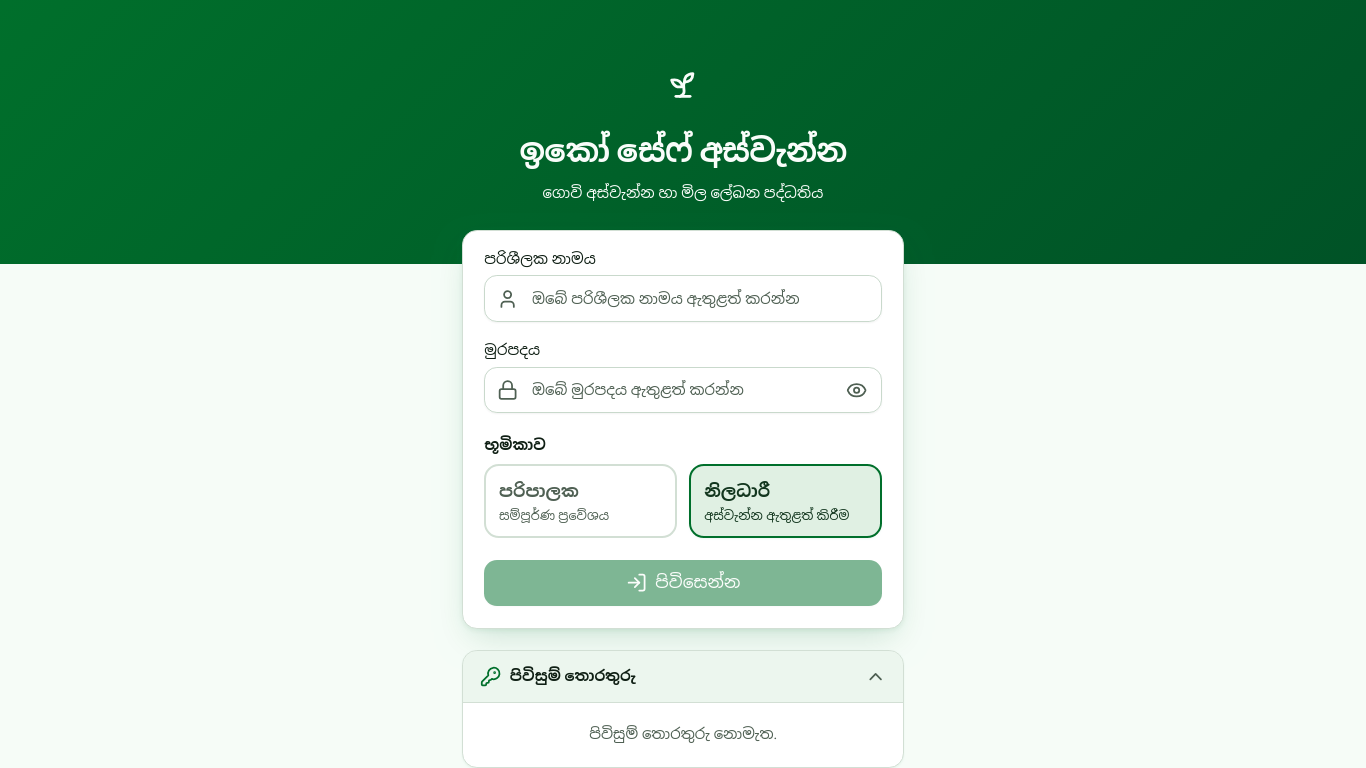
Scenario: LoginPage › toggles password visibility without changing the typed value
Step 1. Type "secret" into the password field labelled "මුරපදය" → (683, 390), box left=484, top=366, right=882, bottom=413
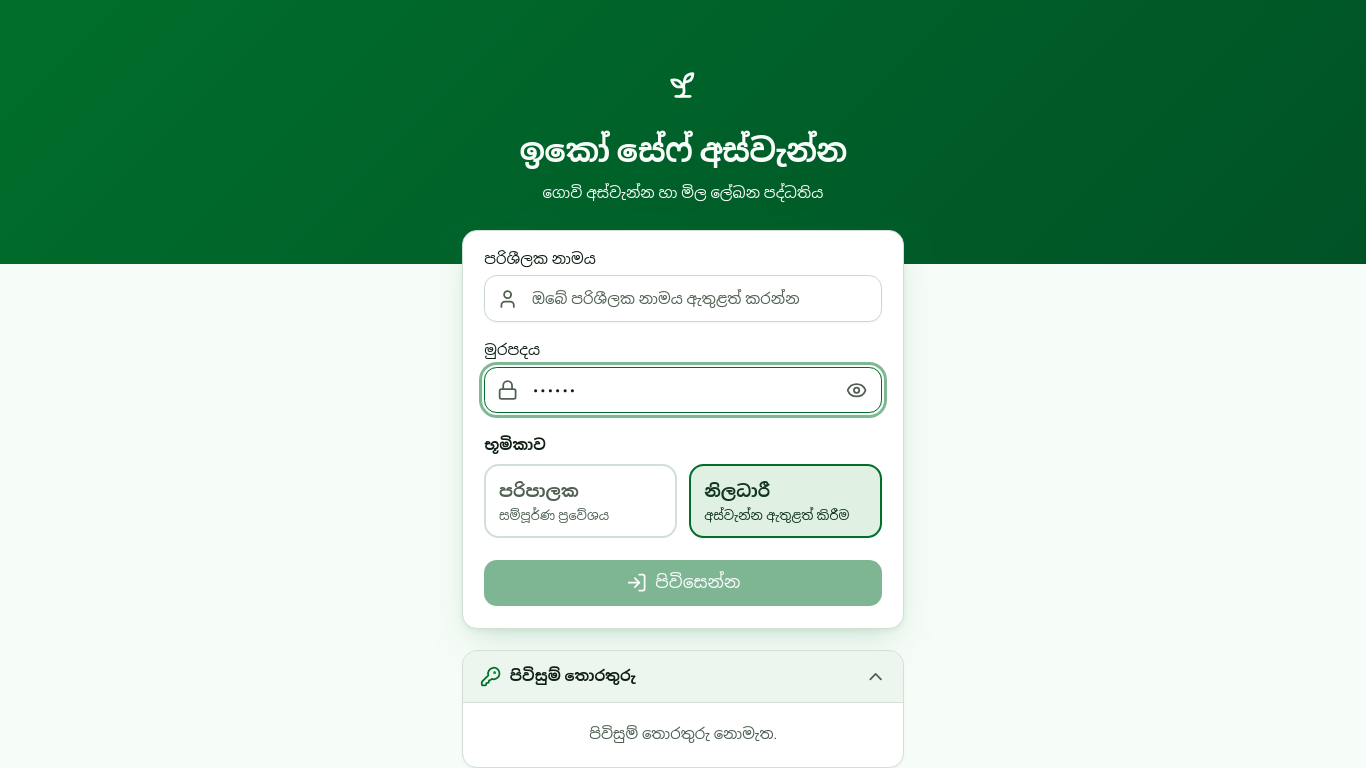
Step 2. Click the button named "මුරපදය පෙන්වන්න" → (856, 390), box left=835, top=366, right=878, bottom=413
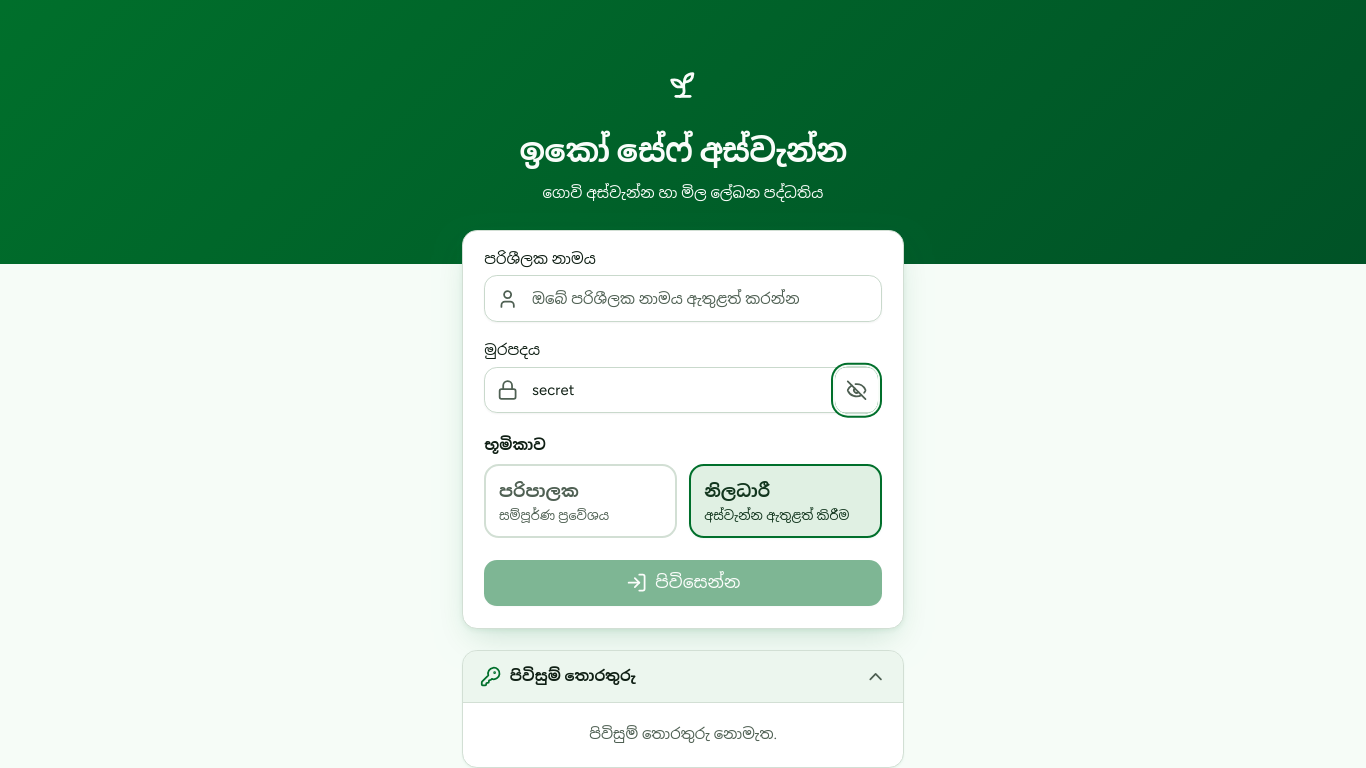
Check: the field labelled "මුරපදය" shows its text, box left=484, top=366, right=882, bottom=413
Step 3. Click the button named "මුරපදය සඟවන්න" → (856, 390), box left=835, top=366, right=878, bottom=413
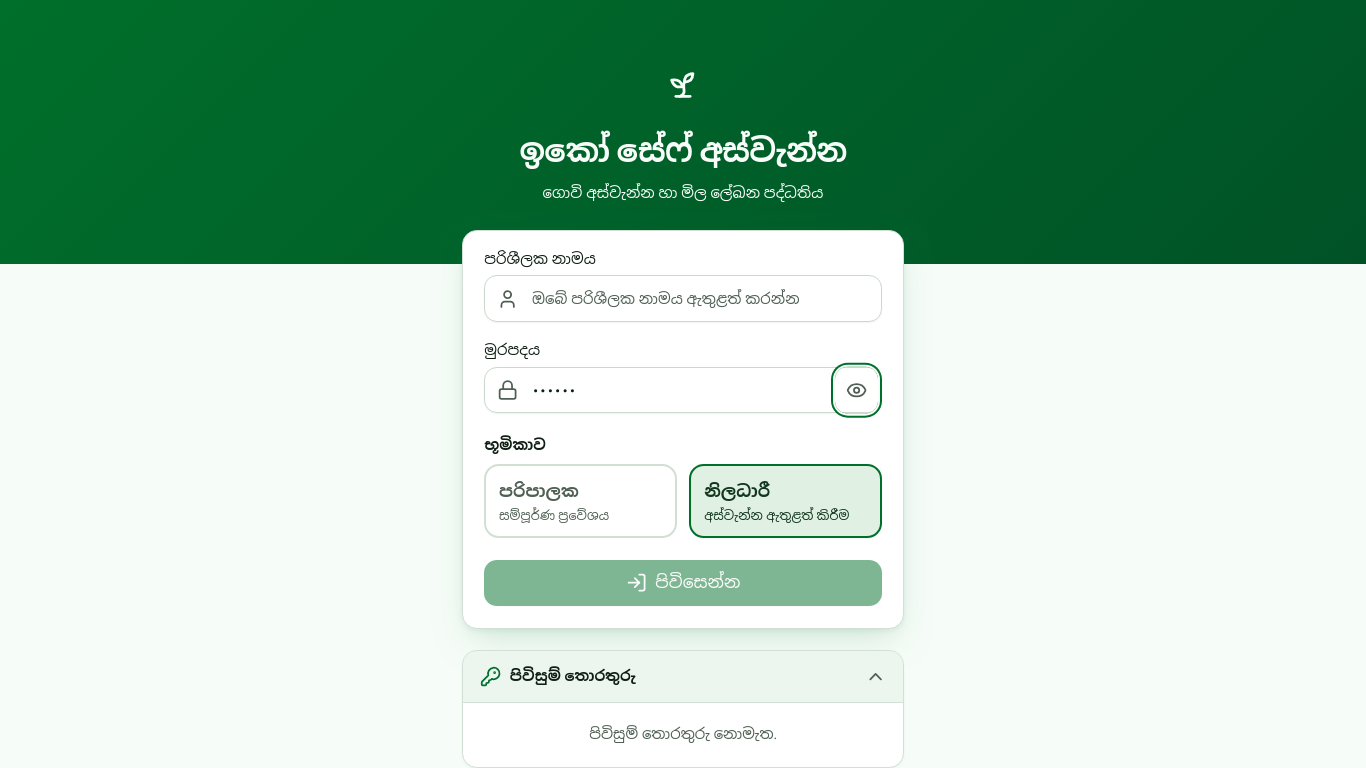
Check: the password field labelled "මුරපදය" hides its text, box left=484, top=366, right=882, bottom=413
